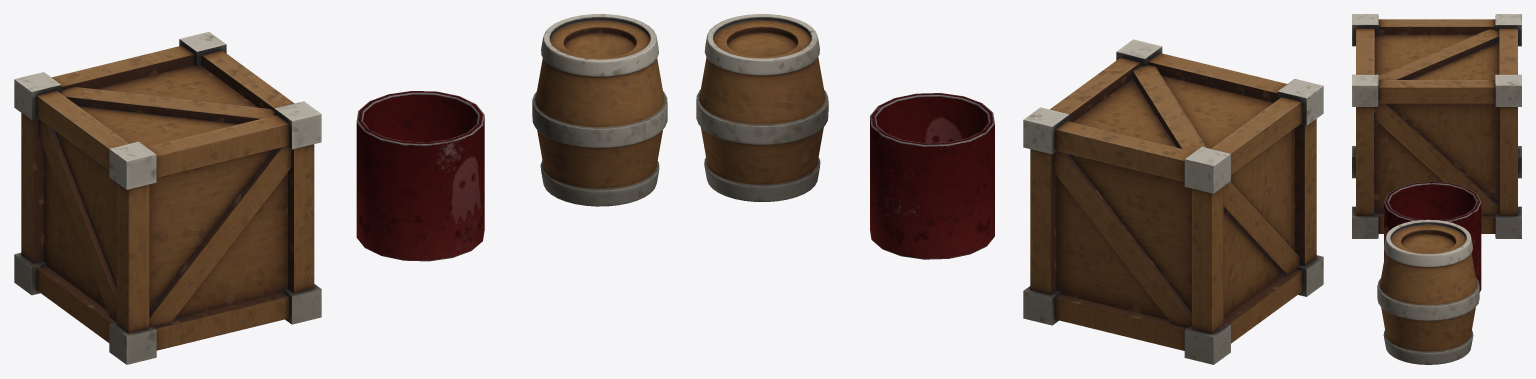
Rendered from Factory_Stuff1.fbx.
The picture shows the model from 3 angles, left to right: view 1: azimuth 30°, elevation 25°; view 2: azimuth 150°, elevation 25°; view 3: azimuth 270°, elevation 25°; orthographic projection. The views are drawn at different scales.
Parts seen in each view (by area): view 1: Cube.040, Cylinder.009, Cylinder.008; view 2: Cube.040, Cylinder.009, Cylinder.008; view 3: Cube.040, Cylinder.009, Cylinder.008.
Part boxes in pixels (<box>): Cube.040: <box>14,32,321,364</box>; Cylinder.009: <box>532,14,667,206</box>; Cylinder.008: <box>356,91,484,261</box>; Cube.040: <box>1023,39,1323,364</box>; Cylinder.009: <box>696,14,828,201</box>; Cylinder.008: <box>870,93,994,259</box>; Cube.040: <box>1352,14,1521,238</box>; Cylinder.009: <box>1377,219,1479,364</box>; Cylinder.008: <box>1384,181,1481,292</box>.
Bounding box in the file's own units: 407 × 136 × 136.
1 material, 1 textured.
